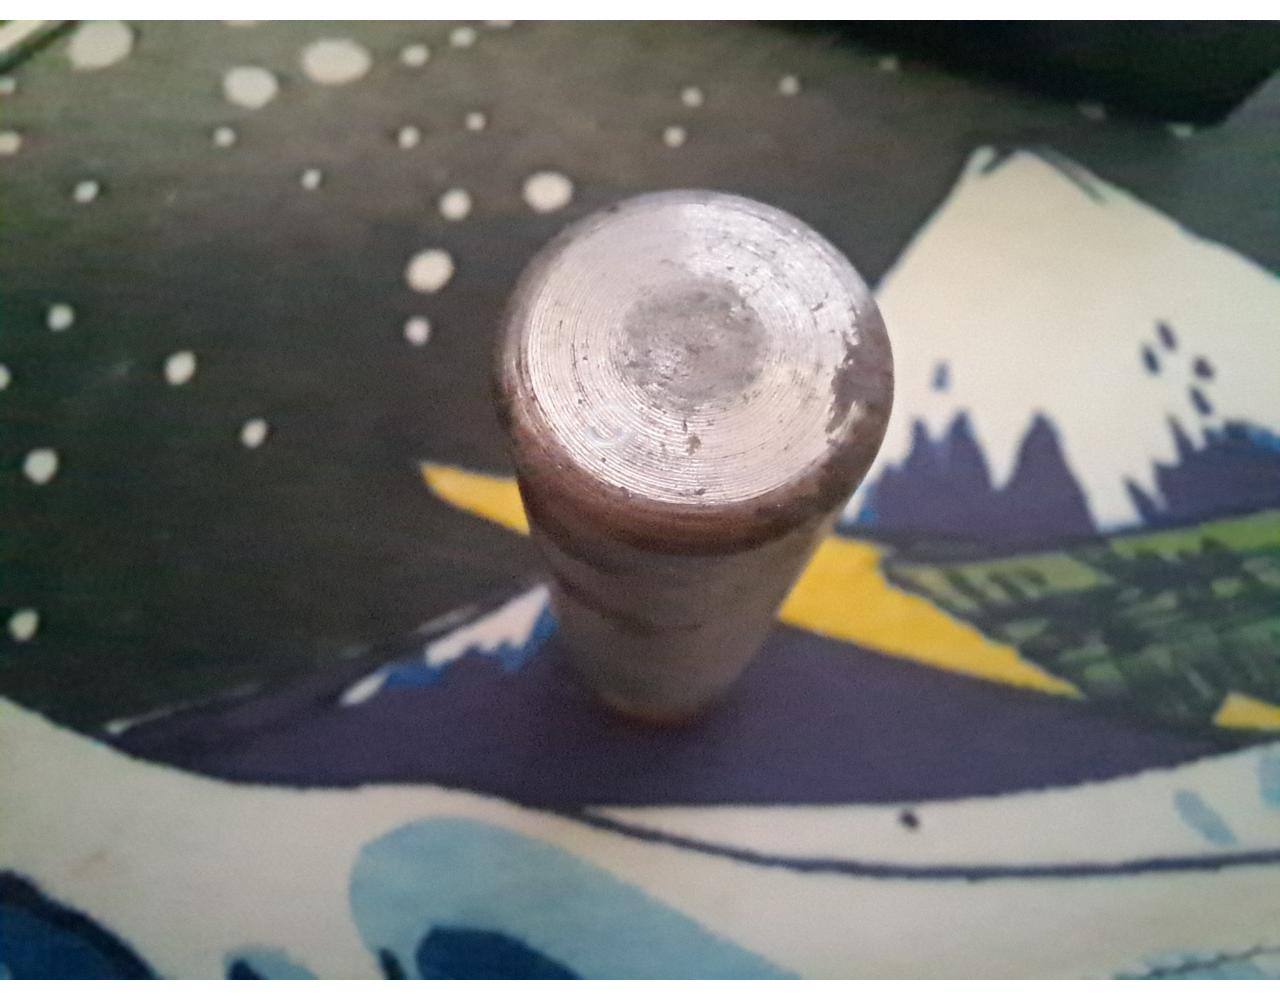defect: (577, 399, 646, 458)
planson: (487, 189, 896, 719)
